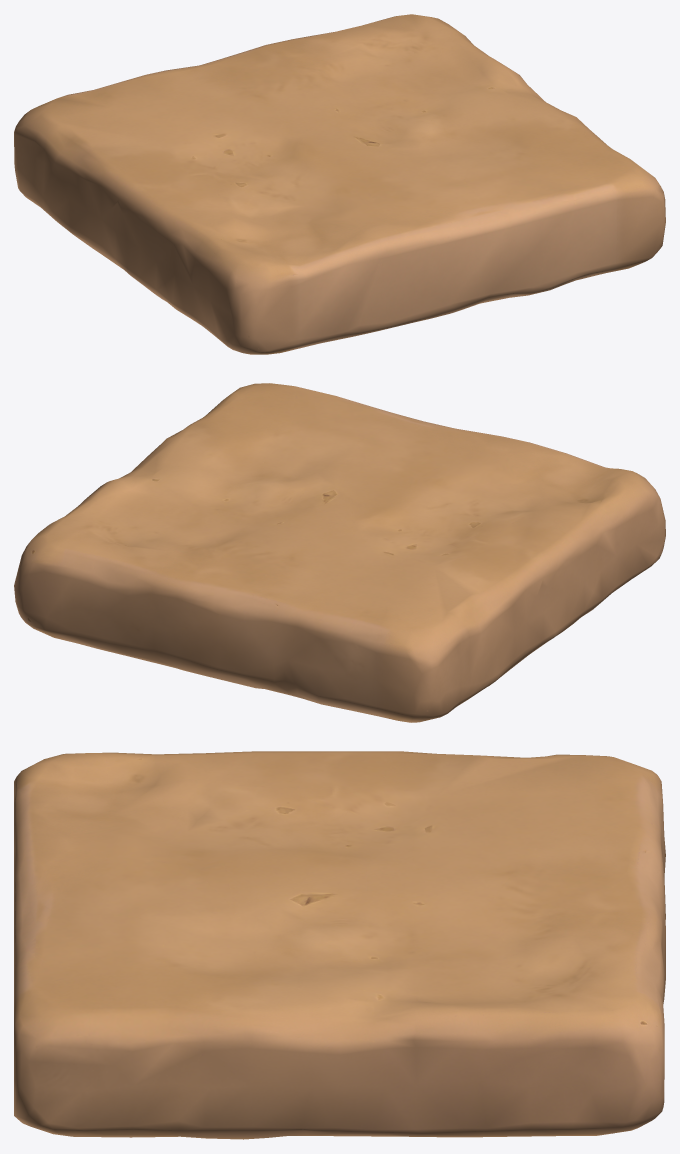
Rendered from Meshy_AI_Shortbread_Square_0301213501_texture.fbx.
The picture shows the model from 3 angles, top to bottom: view 1: azimuth 30°, elevation 25°; view 2: azimuth 150°, elevation 25°; view 3: azimuth 270°, elevation 25°; orthographic projection. The views are drawn at different scales.
Visible parts, largest first — view 1: Mesh_0; view 2: Mesh_0; view 3: Mesh_0.
Part boxes in pixels (bbox=[...]): Mesh_0: bbox=[14, 14, 665, 354]; Mesh_0: bbox=[14, 383, 665, 722]; Mesh_0: bbox=[14, 751, 665, 1139].
Bounding box in the file's own units: 192 × 40.79 × 187.
1 material, 1 textured.
